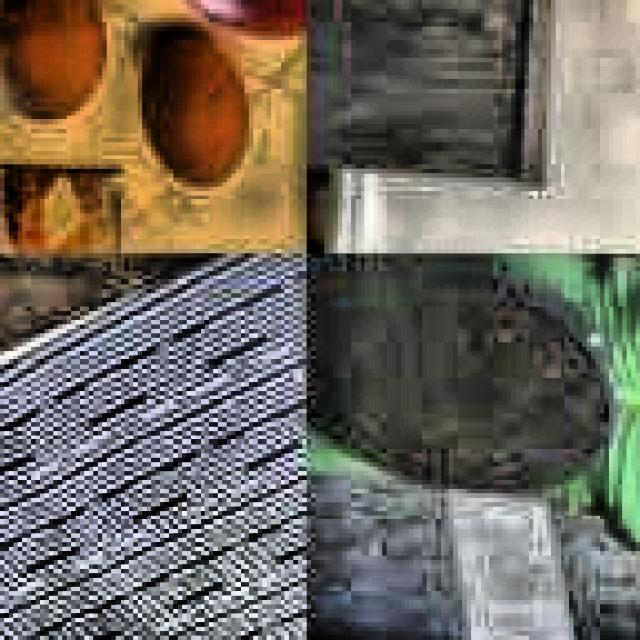egg: (138, 31, 251, 191), (0, 0, 111, 125)
